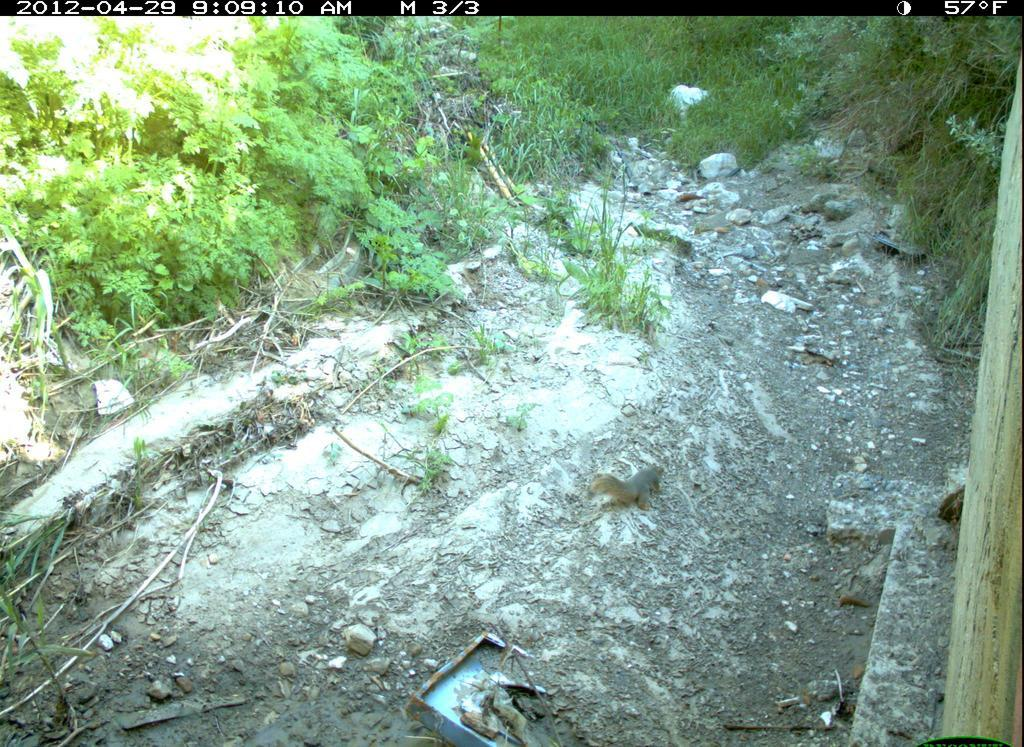squirrel: (585, 465, 675, 536)
